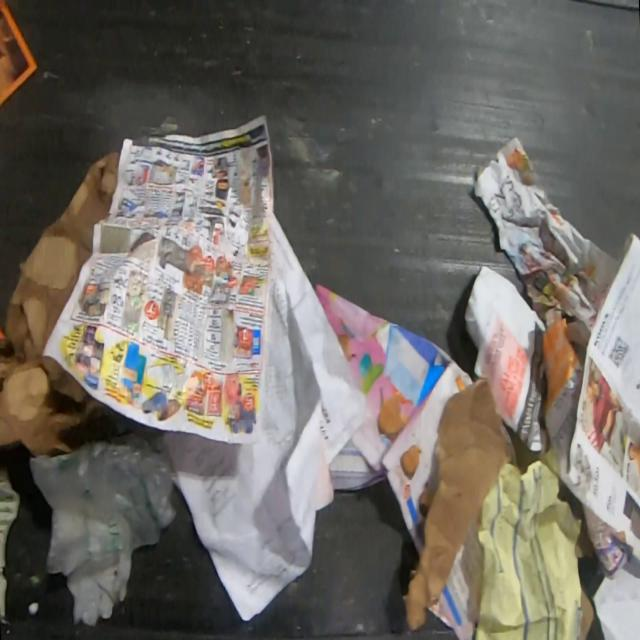cardboard: (0, 150, 121, 457), (400, 377, 514, 634), (45, 510, 143, 630), (0, 463, 23, 627), (580, 590, 595, 640)
soft_plastic: (27, 431, 178, 546)
